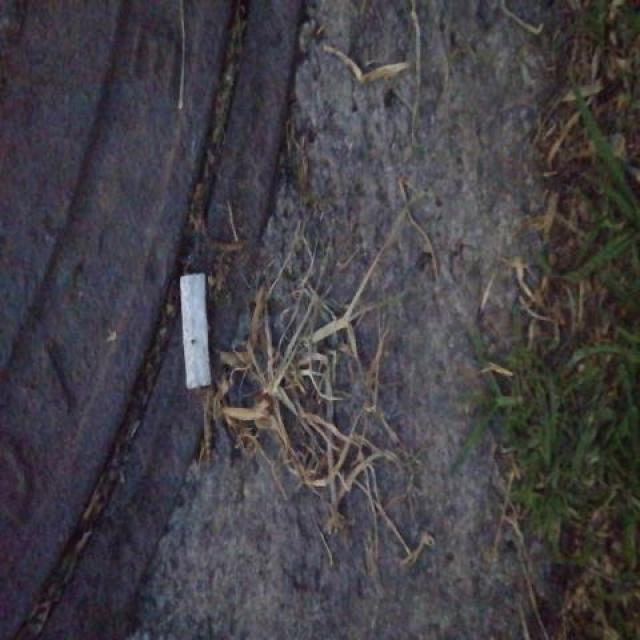non-organic waste: (176, 269, 216, 394)
